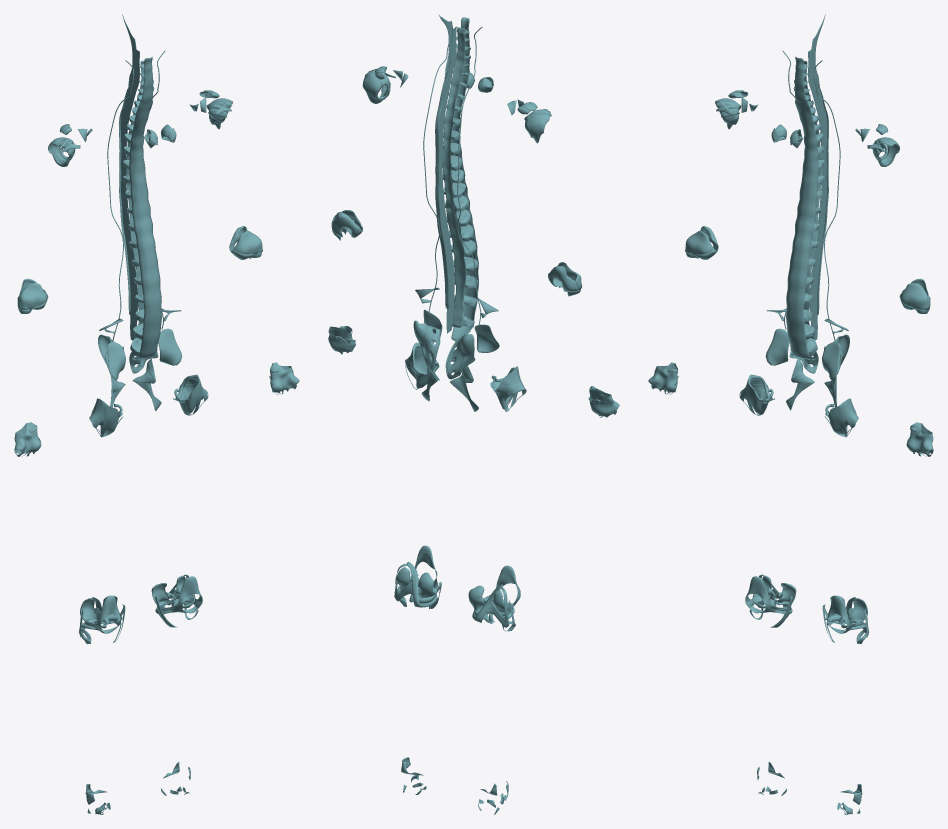
The model's file is joints.glb.
The picture shows the model from 3 angles, left to right: view 1: azimuth 30°, elevation 25°; view 2: azimuth 150°, elevation 25°; view 3: azimuth 330°, elevation 25°; orthographic projection. The views are drawn at different scales.
Visible parts, largest first — view 1: joint__lumbar-spine, joint__knee, joint__sacroiliac, joint__hip, joint__elbow, joint__wrist, joint__shoulder, joint__ankle; view 2: joint__lumbar-spine, joint__knee, joint__sacroiliac, joint__hip, joint__elbow, joint__shoulder, joint__wrist, joint__ankle, joint__acromioclavicular; view 3: joint__lumbar-spine, joint__knee, joint__sacroiliac, joint__hip, joint__elbow, joint__wrist, joint__shoulder, joint__ankle.
Part boxes in pixels (x1,y1,x2,y2): joint__lumbar-spine: (107,49,165,360); joint__knee: (79,574,202,644); joint__sacroiliac: (98,308,182,410); joint__hip: (89,374,208,437); joint__elbow: (17,226,273,441); joint__wrist: (14,362,299,456); joint__shoulder: (48,98,232,166); joint__ankle: (85,762,190,814); joint__lumbar-spine: (423,17,482,341); joint__knee: (394,545,520,631); joint__sacroiliac: (413,287,499,411); joint__hip: (405,342,526,411); joint__elbow: (331,210,589,398); joint__shoulder: (362,69,551,143); joint__wrist: (328,326,619,417); joint__ankle: (401,757,508,814); joint__acromioclavicular: (374,66,537,115); joint__lumbar-spine: (782,49,840,360); joint__knee: (745,574,868,644); joint__sacroiliac: (765,308,849,410); joint__hip: (739,374,858,437); joint__elbow: (674,226,930,441); joint__wrist: (648,362,933,456); joint__shoulder: (715,98,899,166); joint__ankle: (757,762,862,814).
Bounding box in the file's own units: 0.5462 × 1.44 × 0.1469.
